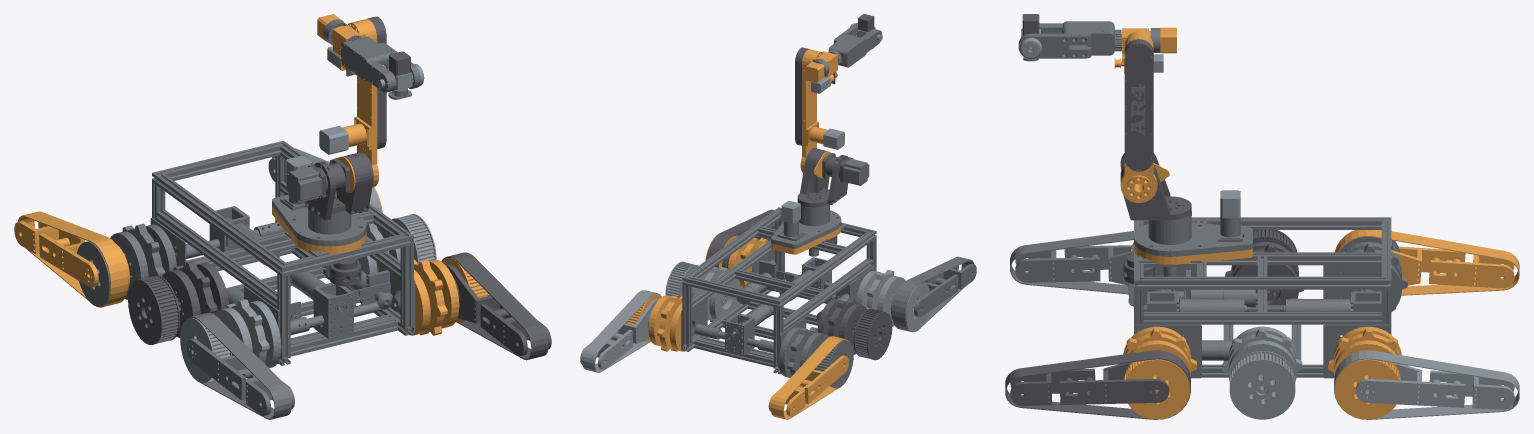
Rendered from search_and_rescue_tracked_robot.glb.
3 views of the same model, side by side, from view 1: azimuth 30°, elevation 25°; view 2: azimuth 150°, elevation 25°; view 3: azimuth 270°, elevation 25° (orthographic). The views are drawn at different scales.
Visible parts, largest first — view 1: base_link_base_link, middle_right_front_right, f_back_right_f_back_right, f_front_left_f_front_left, f_front_right_f_front_right, front_right_front_right, back_right_back_right, front_left_front_left, link_1_link_1, ar4_base_link_base_link, link_4_link_4, link_2_link_2 (+7 smaller); view 2: base_link_base_link, middle_right_front_right, f_front_right_f_front_right, f_back_right_f_back_right, f_back_left_f_back_left, back_right_back_right, link_1_link_1, front_right_front_right, back_left_back_left, ar4_base_link_base_link, middle_left_front_left, link_2_link_2 (+9 smaller); view 3: base_link_base_link, f_back_left_f_back_left, f_front_left_f_front_left, f_back_right_f_back_right, middle_left_front_left, f_front_right_f_front_right, back_left_back_left, front_left_front_left, ar4_base_link_base_link, link_2_link_2_cover, link_4_link_4, middle_right_front_right (+6 smaller).
Part boxes in pixels (x1,y1,x2,y2): base_link_base_link: [150, 140, 415, 365]; middle_right_front_right: [128, 261, 228, 344]; f_back_right_f_back_right: [14, 211, 129, 307]; f_front_left_f_front_left: [441, 252, 551, 360]; f_front_right_f_front_right: [186, 312, 294, 419]; front_right_front_right: [180, 299, 281, 383]; back_right_back_right: [77, 223, 176, 306]; front_left_front_left: [408, 254, 489, 335]; link_1_link_1: [305, 152, 373, 220]; ar4_base_link_base_link: [272, 194, 366, 246]; link_4_link_4: [323, 19, 420, 92]; link_2_link_2: [329, 19, 378, 193]; base_link_base_link: [681, 207, 876, 374]; middle_right_front_right: [817, 298, 892, 360]; f_front_right_f_front_right: [891, 256, 976, 332]; f_back_right_f_back_right: [768, 336, 849, 419]; f_back_left_f_back_left: [580, 290, 661, 372]; back_right_back_right: [778, 327, 853, 388]; link_1_link_1: [797, 148, 853, 207]; front_right_front_right: [856, 269, 929, 331]; back_left_back_left: [626, 292, 686, 351]; ar4_base_link_base_link: [771, 201, 841, 248]; middle_left_front_left: [665, 261, 740, 322]; link_2_link_2: [800, 49, 830, 178]; base_link_base_link: [1134, 217, 1391, 378]; f_back_left_f_back_left: [1334, 350, 1519, 419]; f_front_left_f_front_left: [1005, 350, 1190, 419]; f_back_right_f_back_right: [1335, 230, 1519, 295]; middle_left_front_left: [1222, 326, 1302, 419]; f_front_right_f_front_right: [1010, 231, 1133, 294]; back_left_back_left: [1328, 326, 1407, 419]; front_left_front_left: [1117, 326, 1196, 419]; ar4_base_link_base_link: [1134, 211, 1252, 256]; link_2_link_2_cover: [1124, 39, 1153, 171]; link_4_link_4: [1018, 21, 1160, 58]; middle_right_front_right: [1225, 230, 1303, 305].
Bounding box in the file's own units: 0.6637 × 0.7779 × 1.06.
